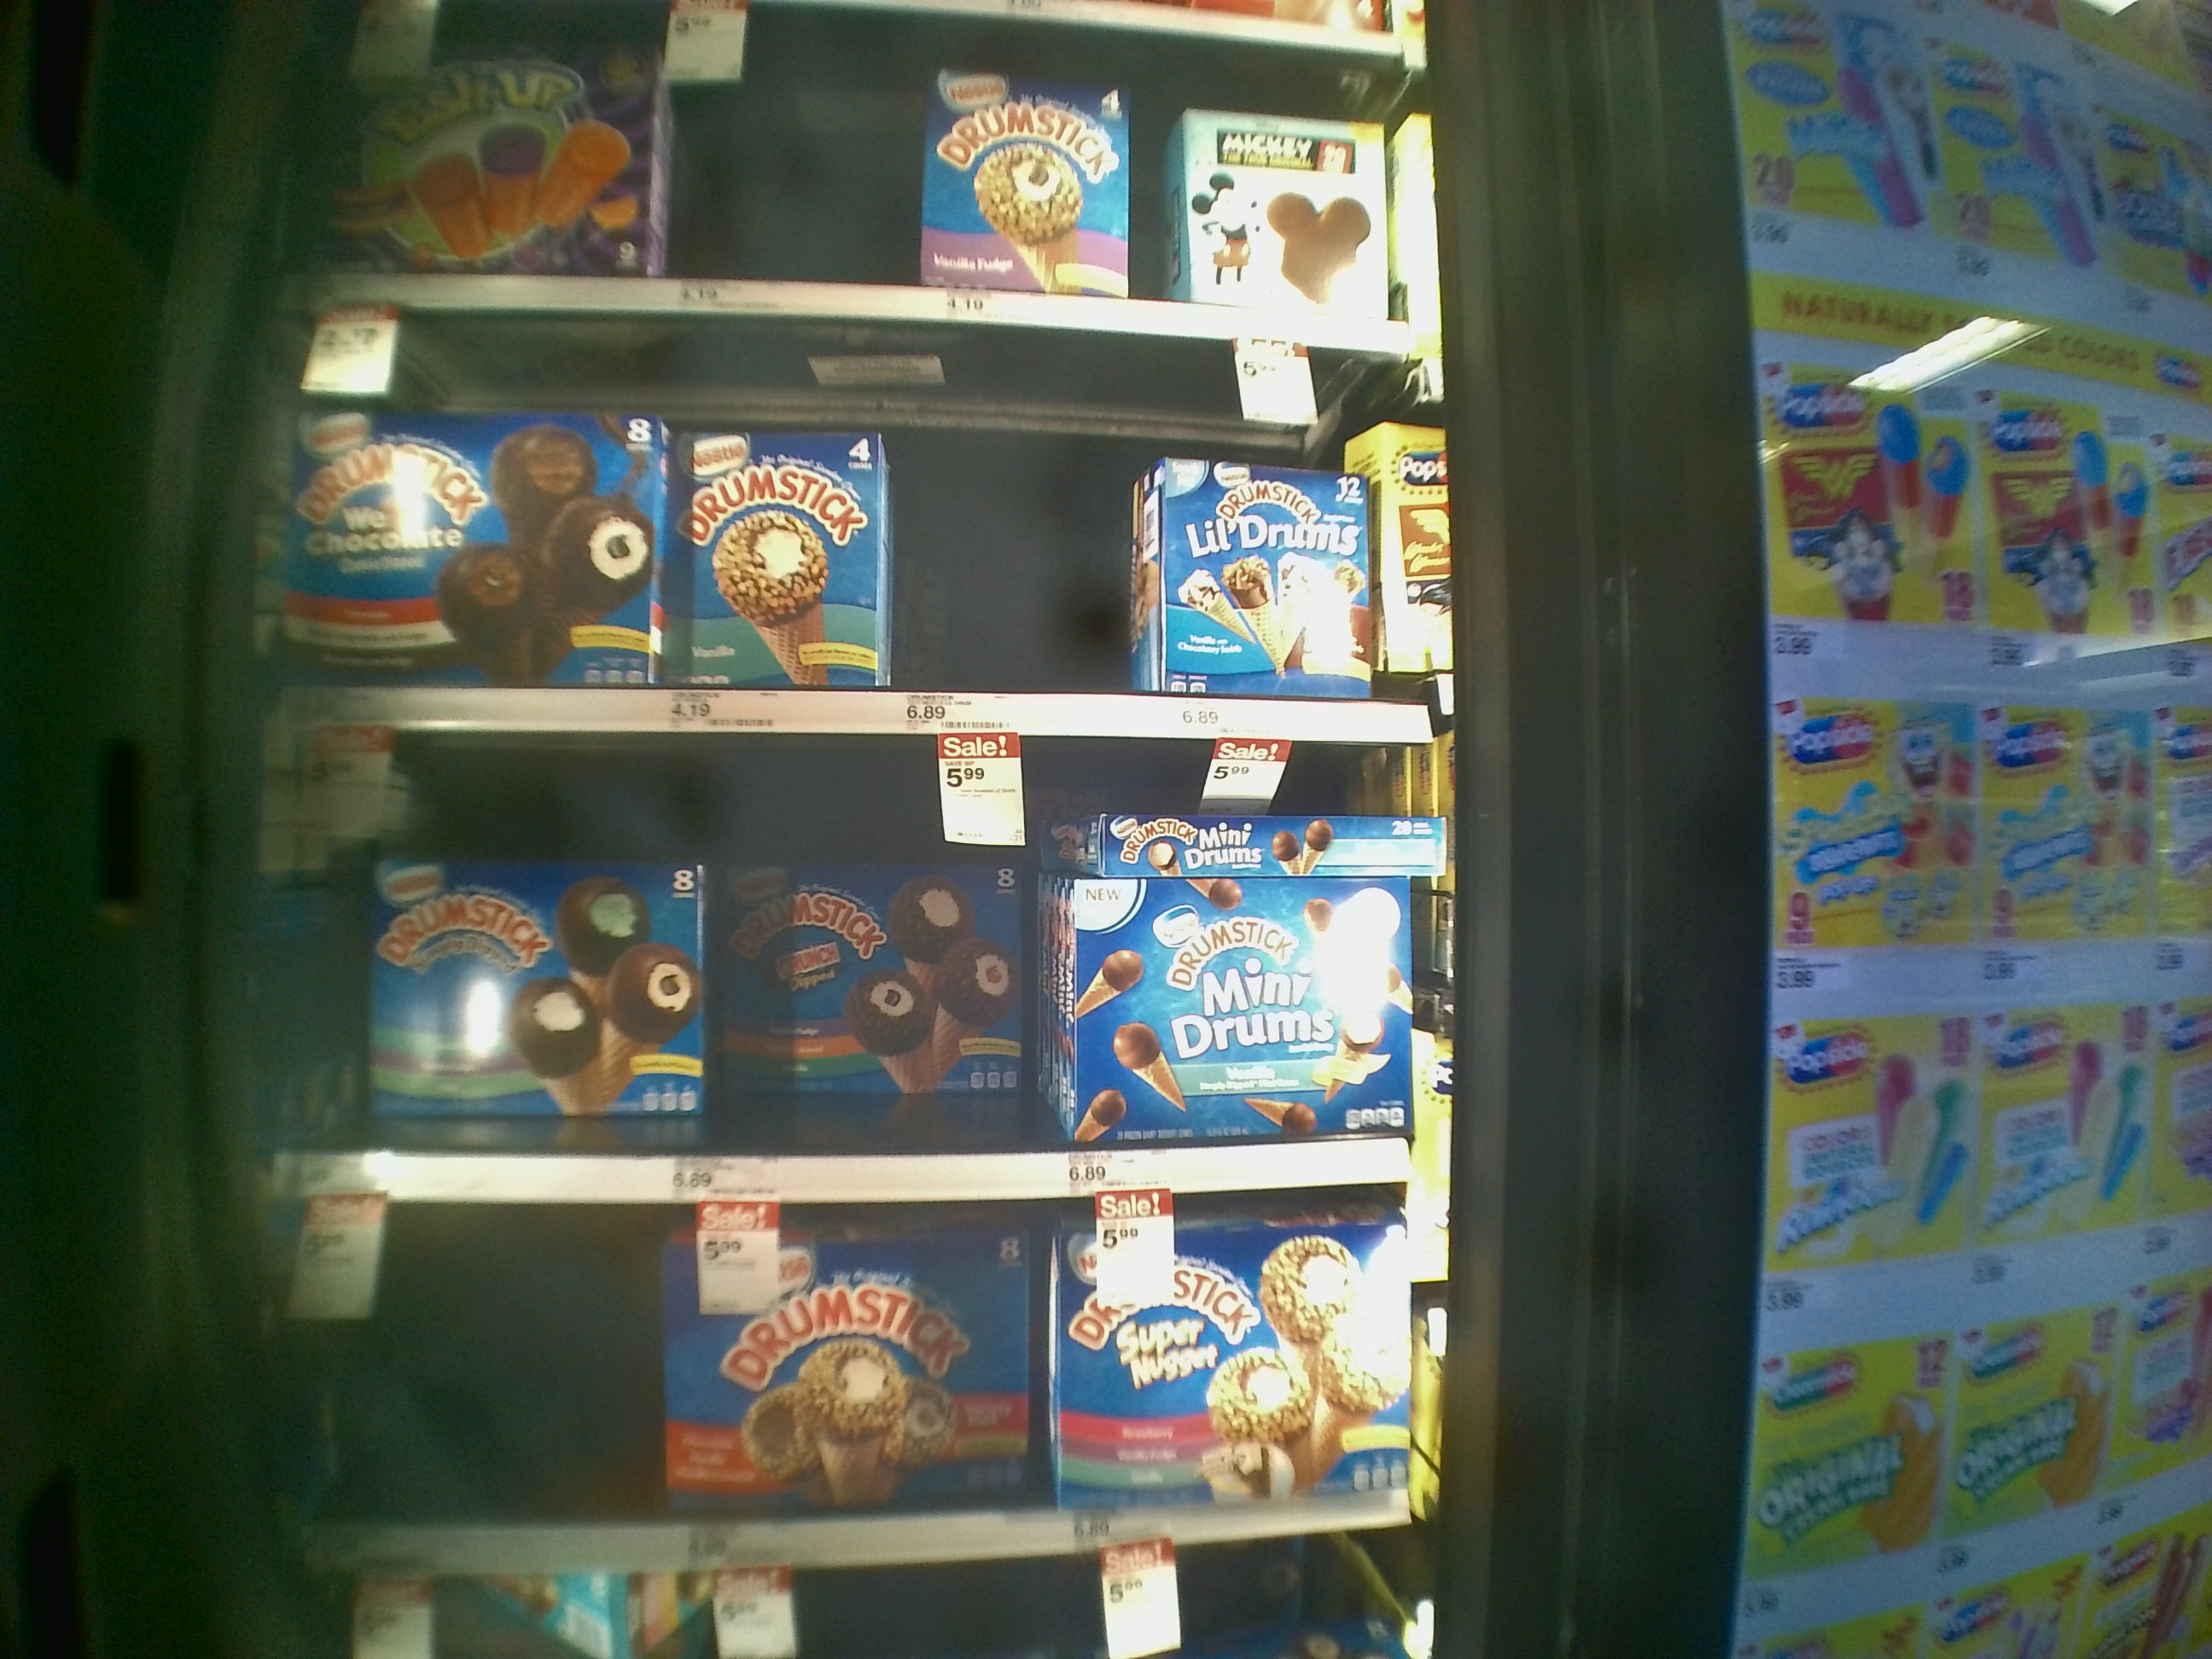ice-cream-shelf: (273, 739, 1433, 1194), (273, 307, 1453, 737), (270, 1199, 1423, 1565)
